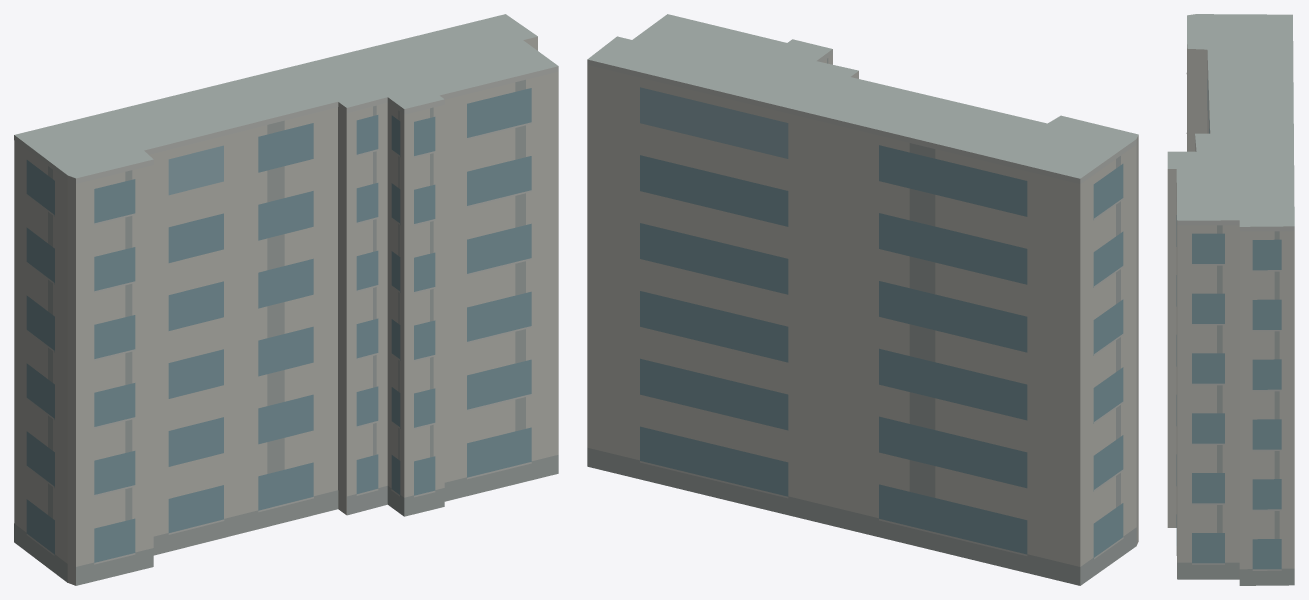
The model's file is survey-upis-32806138.glb.
3 views of the same model, side by side, from view 1: azimuth 30°, elevation 25°; view 2: azimuth 150°, elevation 25°; view 3: azimuth 270°, elevation 25° (orthographic). The views are drawn at different scales.
Visible parts, largest first — view 1: survey-upis-32806138.tmp; view 2: survey-upis-32806138.tmp; view 3: survey-upis-32806138.tmp.
Part boxes in pixels (x1=…): survey-upis-32806138.tmp: x1=14, y1=14, x2=558, y2=585; survey-upis-32806138.tmp: x1=587, y1=14, x2=1138, y2=585; survey-upis-32806138.tmp: x1=1167, y1=14, x2=1294, y2=585.
Bounding box in the file's own units: 23.28 × 18.3 × 5.89.
